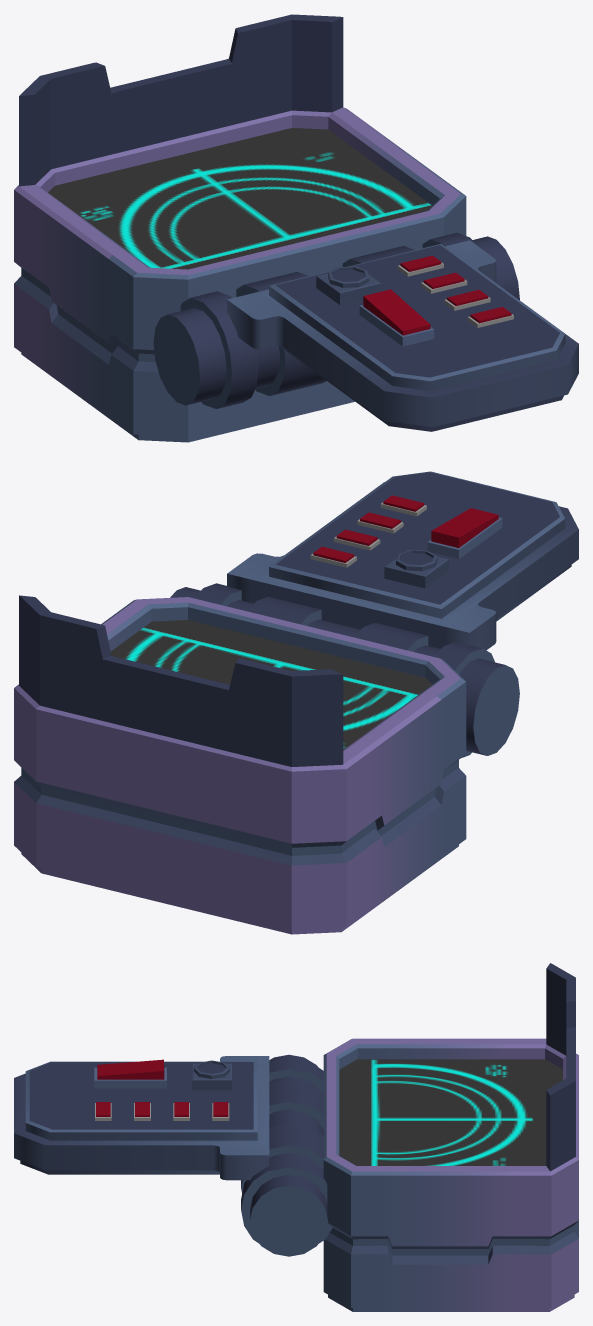
Rendered from Radar.fbx.
3 views of the same model, one above another, from view 1: azimuth 30°, elevation 25°; view 2: azimuth 150°, elevation 25°; view 3: azimuth 270°, elevation 25° (orthographic). The views are drawn at different scales.
Visible parts, largest first — view 1: Cube.002; view 2: Cube.002; view 3: Cube.002.
Boxes of the visible parts, bbox=[...] form: Cube.002: bbox=[14, 14, 578, 442]; Cube.002: bbox=[14, 471, 578, 934]; Cube.002: bbox=[14, 963, 578, 1311].
Bounding box in the file's own units: 313 × 233 × 548.
Materials: 2 (2 with a texture image).
